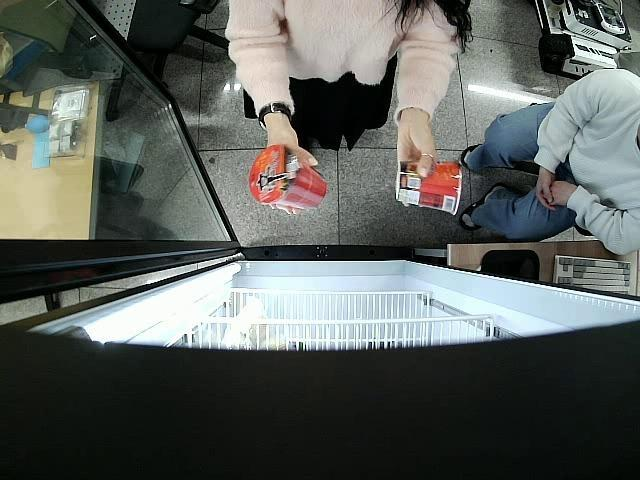02_shinRamen_S: (250, 144, 328, 211), (394, 157, 464, 216)
